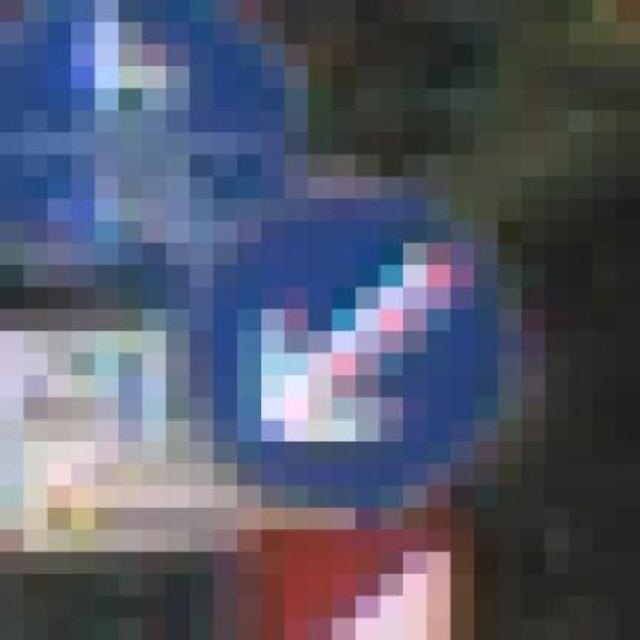Keep-Left: (142, 155, 546, 507)
